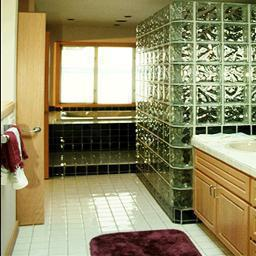Ducha: (139, 26, 189, 219), (51, 113, 129, 175)
Lavamanos: (211, 128, 255, 168)
Ventana: (56, 42, 134, 107)
